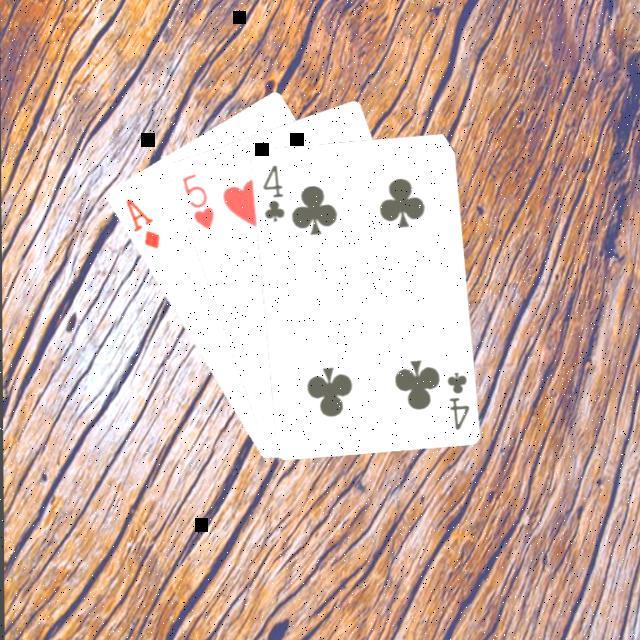4C: (441, 367, 471, 433), (257, 160, 286, 223)
5H: (177, 169, 215, 231)
AD: (120, 193, 162, 251)
